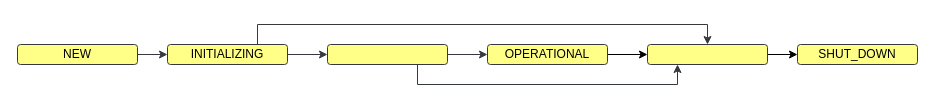
Some shapes in this 935 by 110 pixel diagram are drawn without their labels. The shapes that lost their labels are listed below. From the top down, each one's centre as x and y in pixels, then its label:
At [387,54]: "INITIALIZED".
At [707,54]: "SHUTTING_DOWN".
